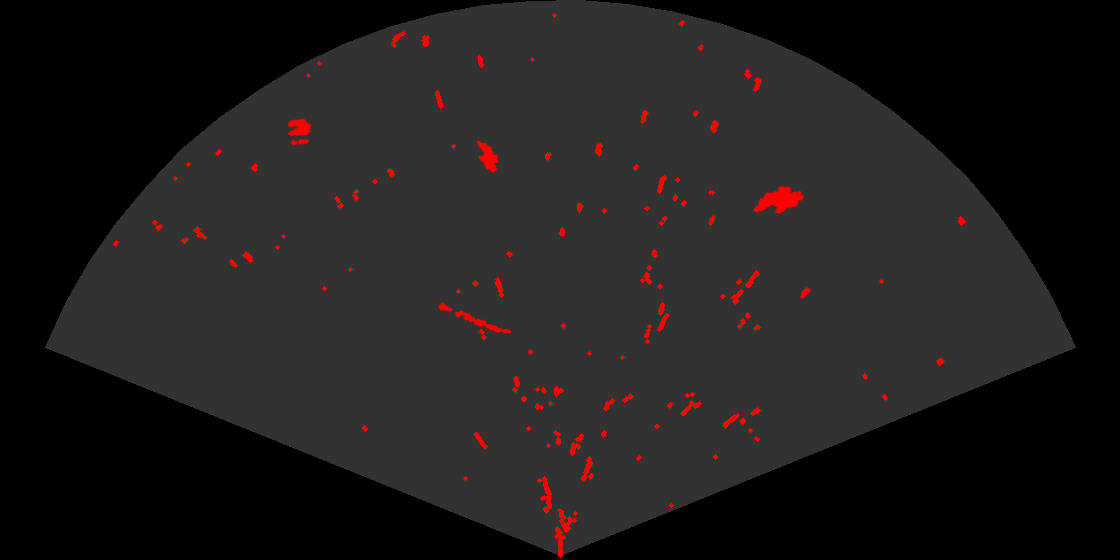AUV: (751, 184, 806, 216), (475, 138, 500, 175)
ball: (286, 117, 313, 147)
chain: (431, 300, 513, 336)
